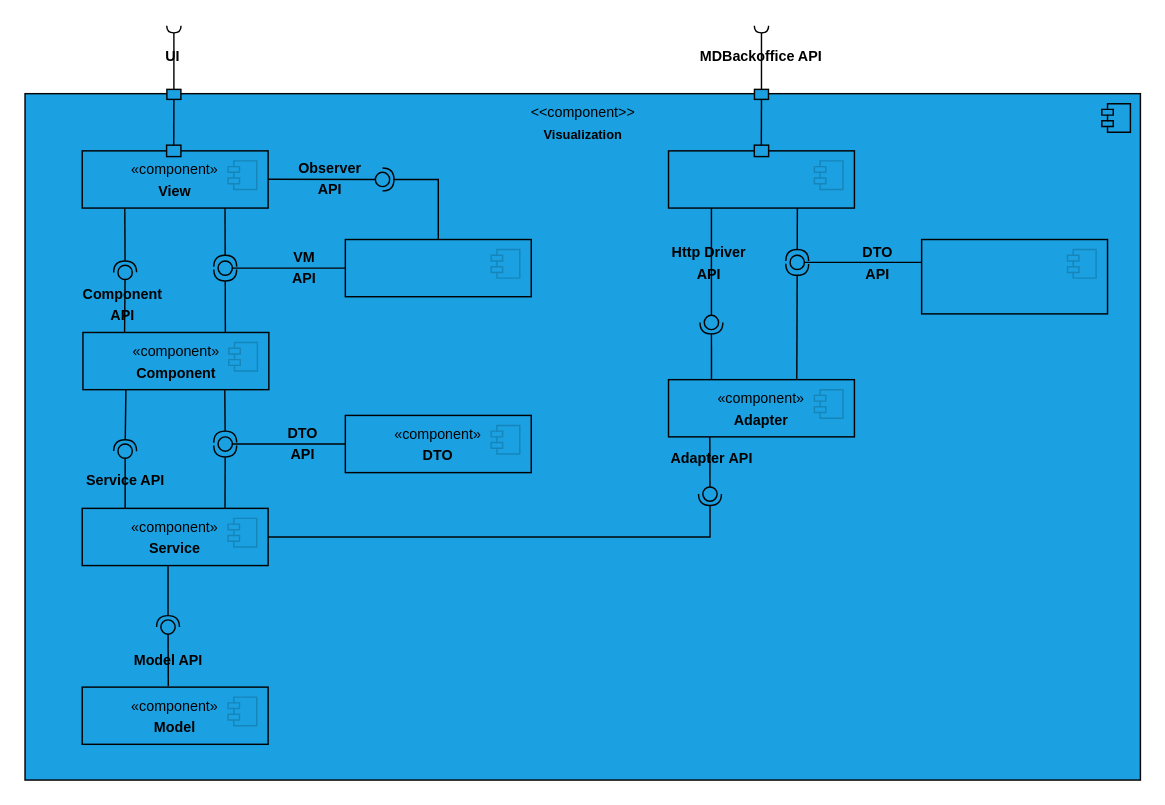
Some shapes in this 1165 by 805 pixel diagram are drawn without their labels. Each missing label, with the box of its shape:
«component» DTO External-Internal: (920, 238, 1108, 314)
«component» HTTP Driver: (667, 149, 854, 208)
«component» View Model: (344, 238, 531, 297)
